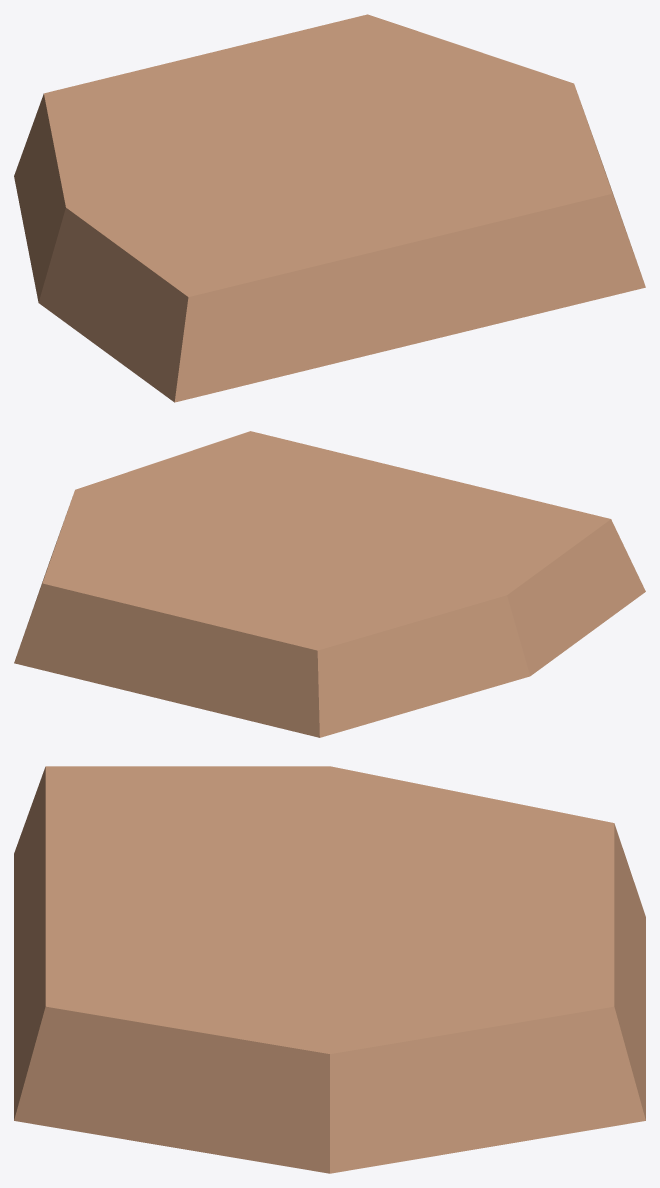
File: Rock_Flat_s_03.fbx
3 renders of one model, top to bottom at view 1: azimuth 30°, elevation 25°; view 2: azimuth 150°, elevation 25°; view 3: azimuth 270°, elevation 25°, orthographic. The views are drawn at different scales.
Parts seen in each view (by area): view 1: Rock_Flat_s_03; view 2: Rock_Flat_s_03; view 3: Rock_Flat_s_03.
Boxes of the visible parts, x1=… form: Rock_Flat_s_03: x1=14, y1=14, x2=645, y2=402; Rock_Flat_s_03: x1=14, y1=431, x2=645, y2=737; Rock_Flat_s_03: x1=14, y1=766, x2=645, y2=1173.
Bounding box in the file's own units: 76.07 × 11.43 × 63.5.
